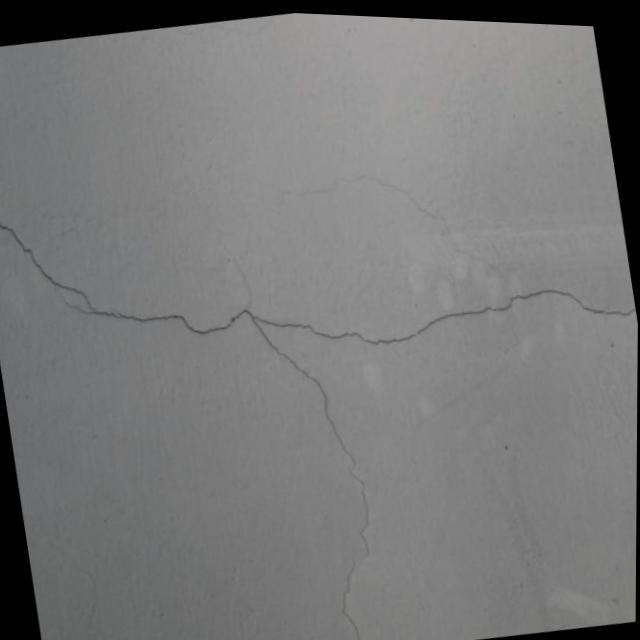Crack: (0, 113, 639, 640)
